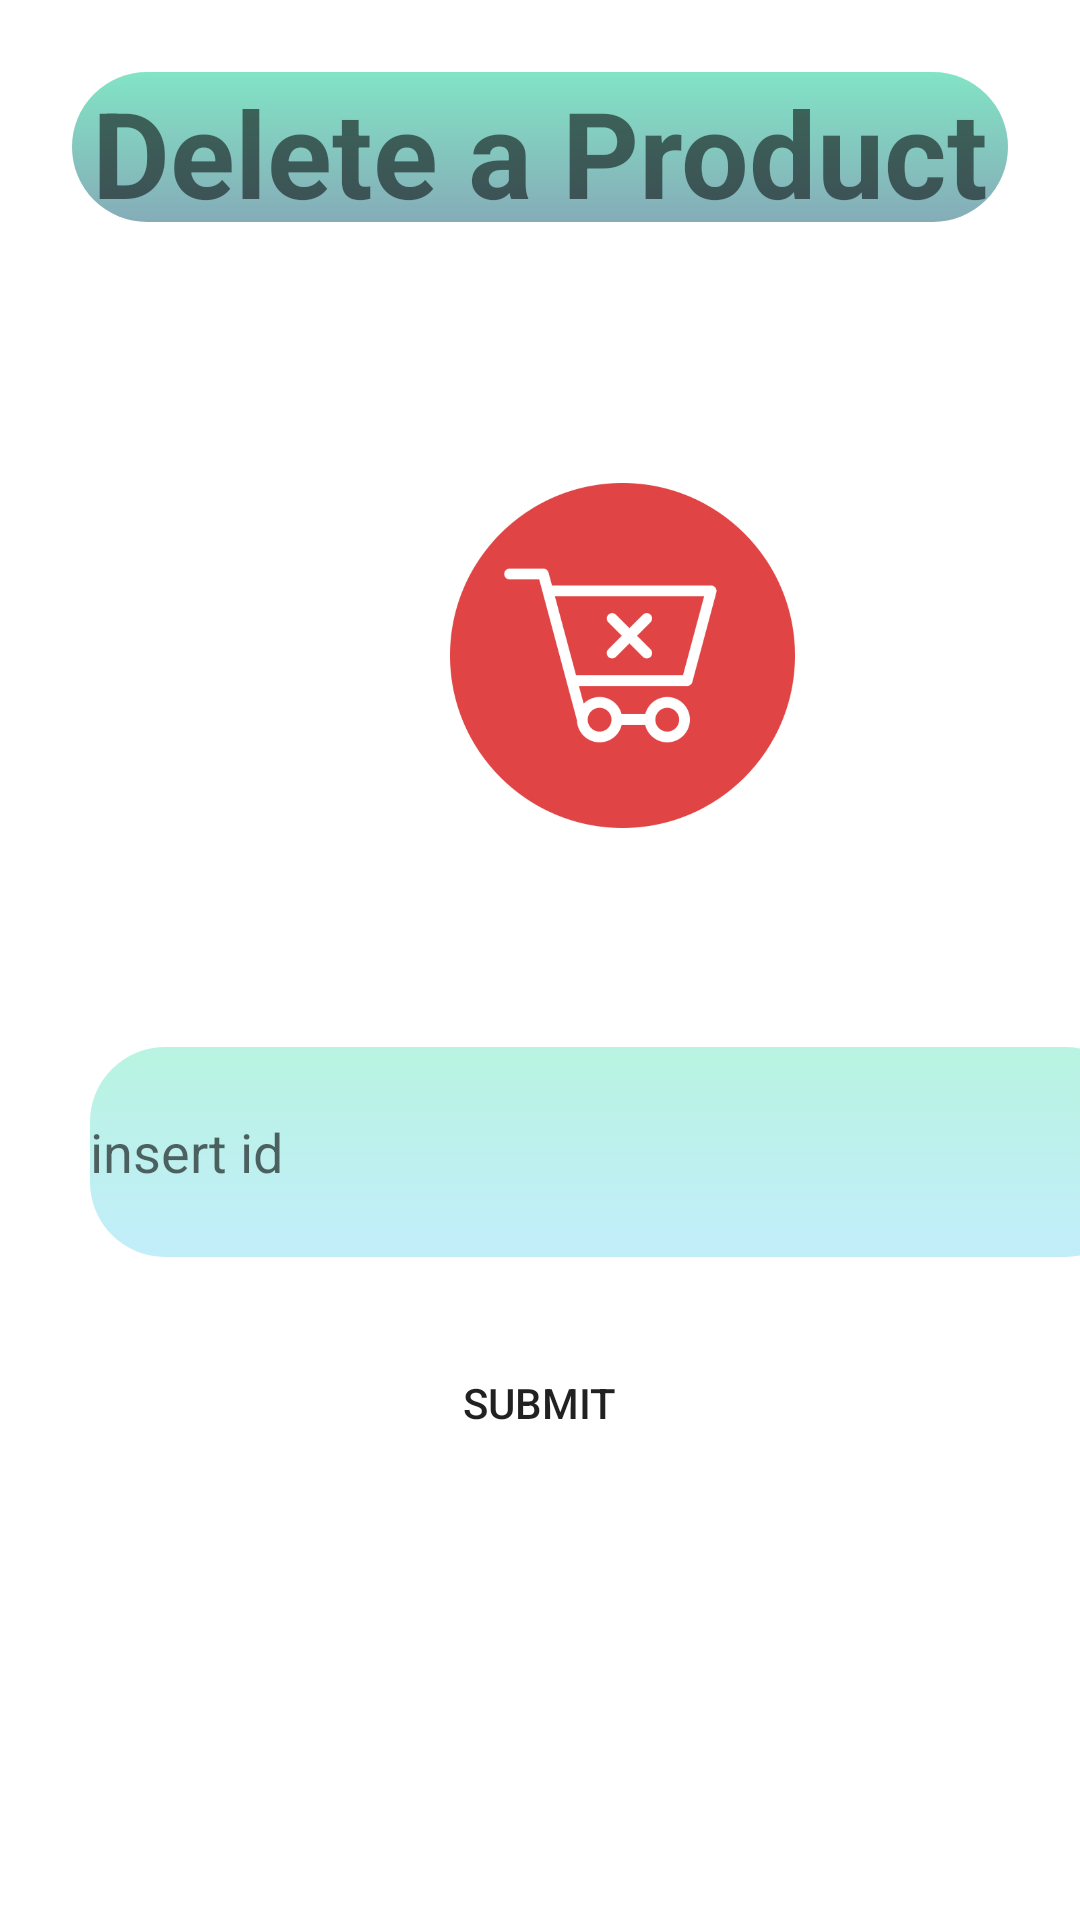

Screen size 1080px x 1920px. Icon name, then its box in pixels as (x1,y1,x2,y2):
remove: (450,483,795,828)
